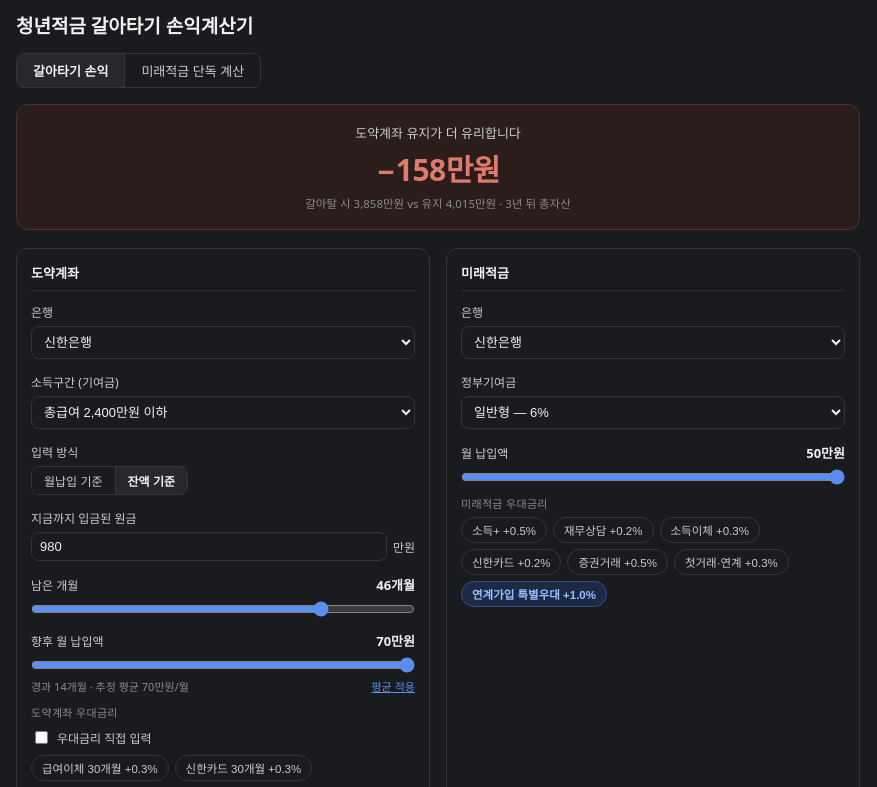
Test: App 스모크 › 월납입 기준으로 토글하면 기납입 개월 슬라이더가 보인다
Step 1. Click the button "월납입 기준" → (73, 480), box [32, 467, 114, 494]
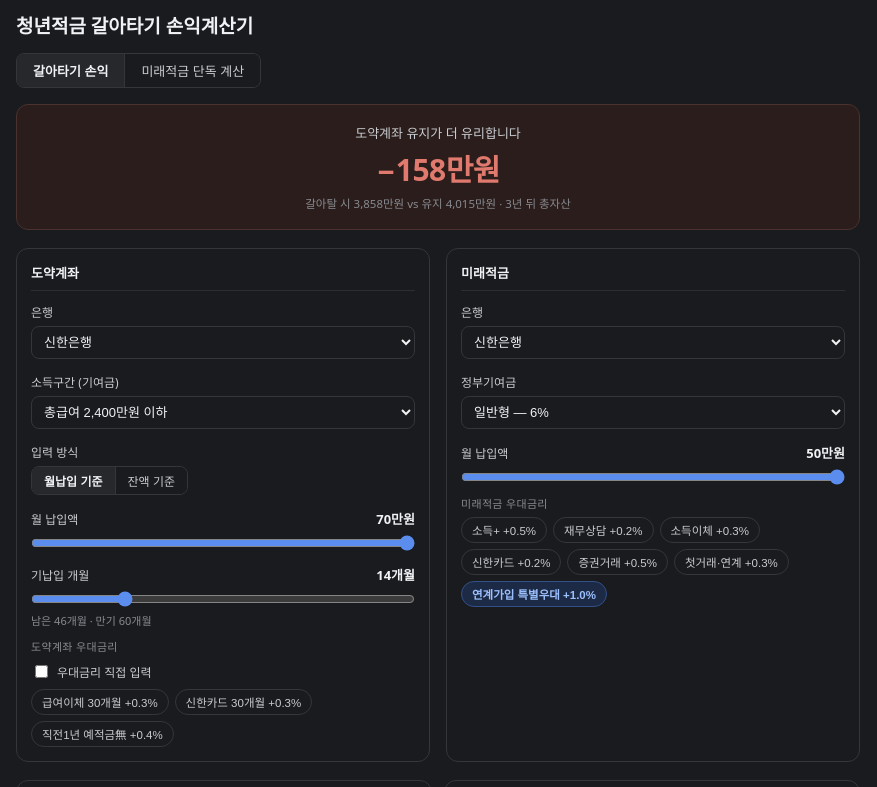
Result: the slider named "기납입 개월" is shown at [31, 591, 415, 607]
Result: the text "남은 46개월 · 만기 60개월" is shown at [31, 613, 152, 628]
